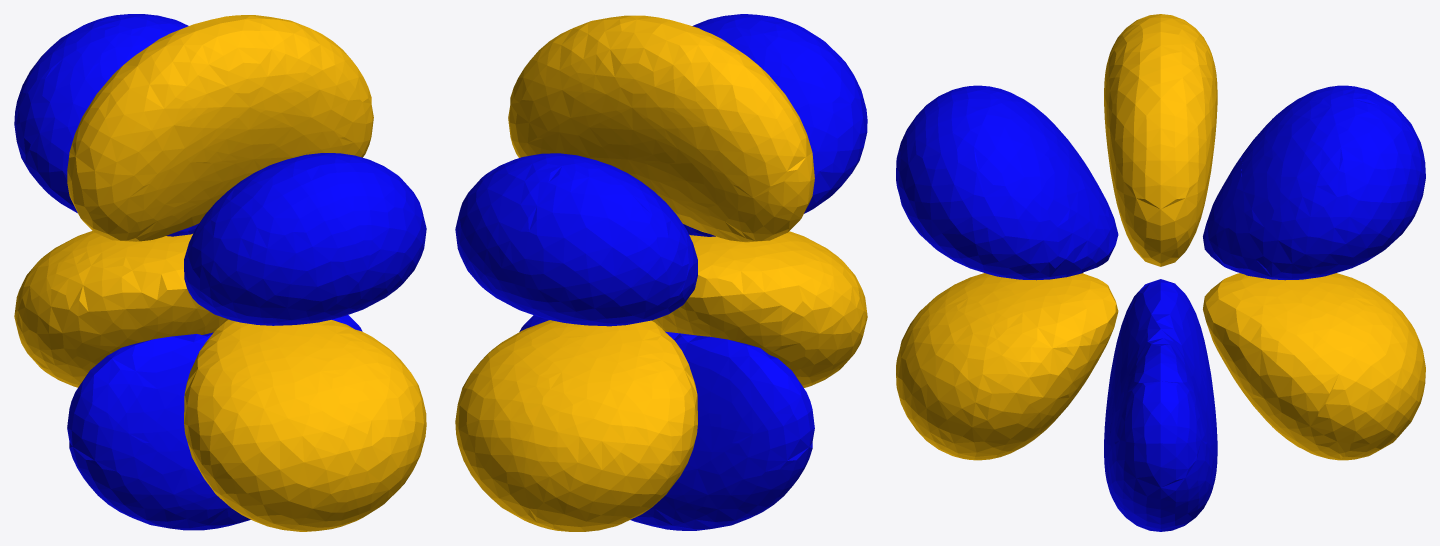
The picture shows the model from 3 angles, left to right: view 1: azimuth 30°, elevation 25°; view 2: azimuth 150°, elevation 25°; view 3: azimuth 270°, elevation 25°; orthographic projection. The views are drawn at different scales.
Size of the model in its own units: 15.07 by 24.14 by 24.04.
